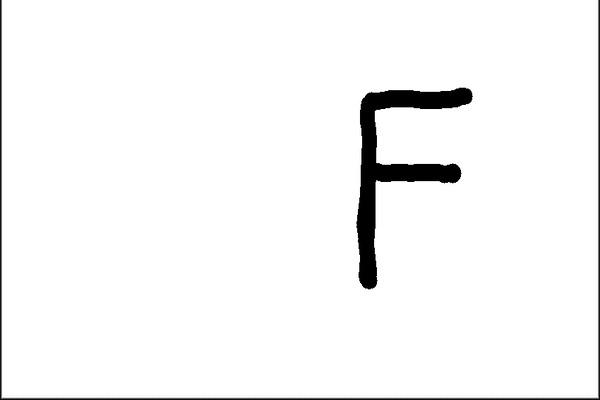F: (351, 83, 478, 291)
